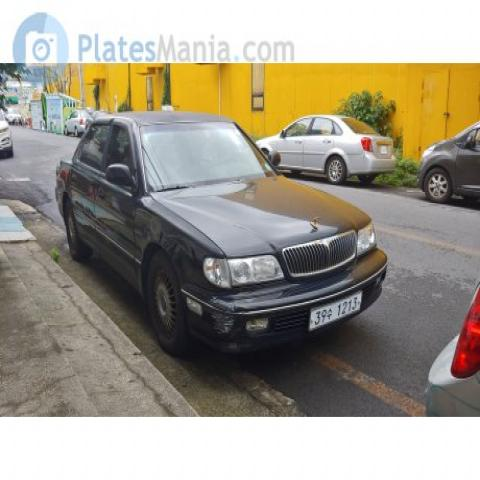LP: (306, 281, 368, 343)
